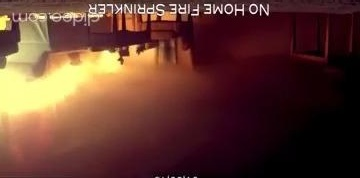fire: (0, 42, 129, 133)
